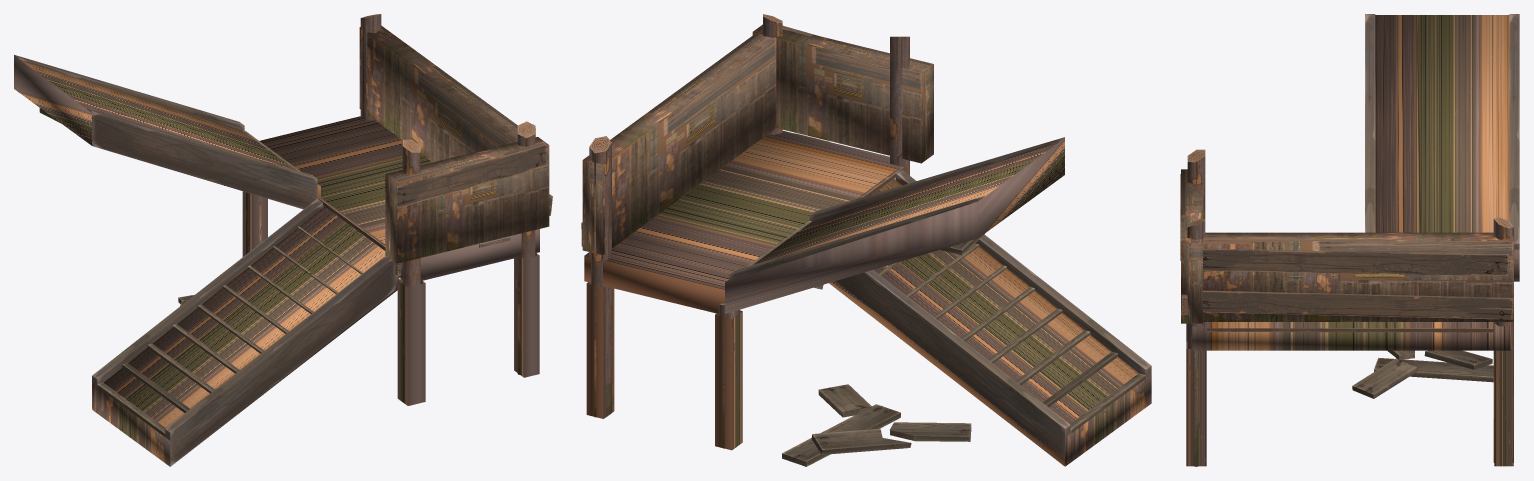
File: fenceWalk_stairs02_B.FBX
The picture shows the model from 3 angles, left to right: view 1: azimuth 30°, elevation 25°; view 2: azimuth 150°, elevation 25°; view 3: azimuth 270°, elevation 25°; orthographic projection. The views are drawn at different scales.
Visible parts, largest first — view 1: fenceWalk_stairs02_B_COL, fenceWalk_stairs02_B; view 2: fenceWalk_stairs02_B_COL, fenceWalk_stairs02_B; view 3: fenceWalk_stairs02_B_COL, fenceWalk_stairs02_B.
Part boxes in pixels (x1=…): fenceWalk_stairs02_B_COL: x1=14, y1=25, x2=549, y2=466; fenceWalk_stairs02_B: x1=14, y1=14, x2=552, y2=466; fenceWalk_stairs02_B_COL: x1=582, y1=24, x2=1151, y2=466; fenceWalk_stairs02_B: x1=581, y1=14, x2=1151, y2=466; fenceWalk_stairs02_B_COL: x1=1181, y1=15, x2=1519, y2=466; fenceWalk_stairs02_B: x1=1180, y1=14, x2=1519, y2=466.
Bounding box in the file's own units: 408 × 316 × 329.
